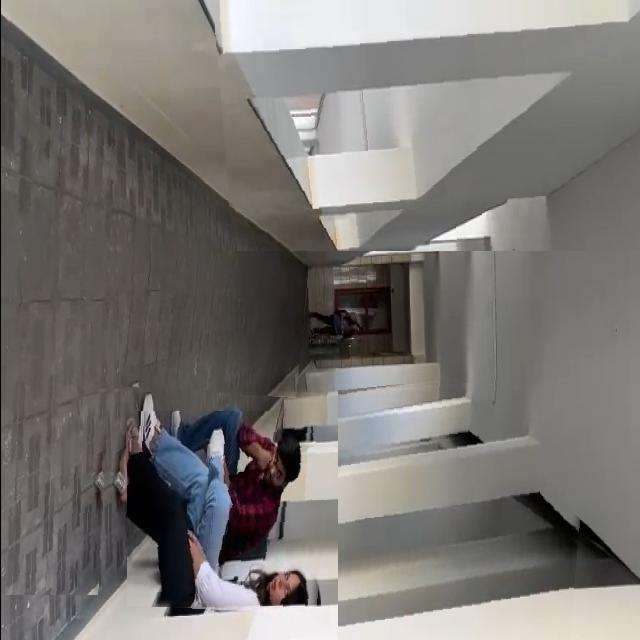floor: (0, 116, 122, 595), (118, 273, 308, 398)
moving_object: (126, 411, 329, 614), (304, 310, 360, 344)
wall: (213, 0, 640, 251), (337, 364, 593, 640)
